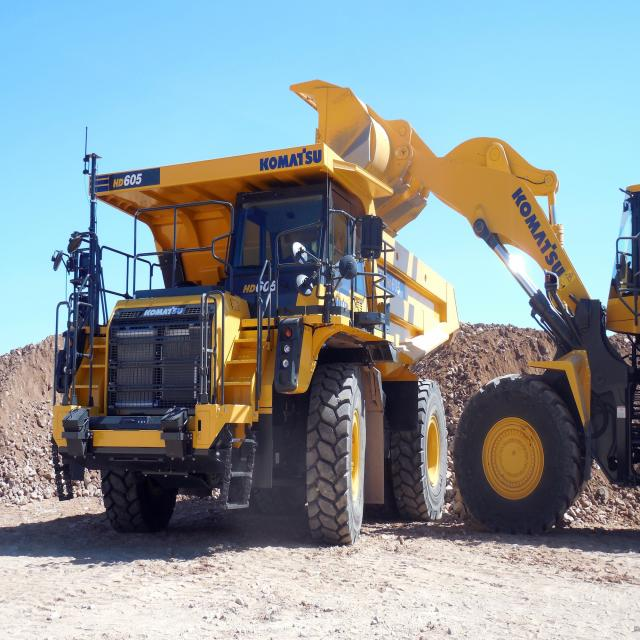dump_truck: (63, 133, 470, 558)
